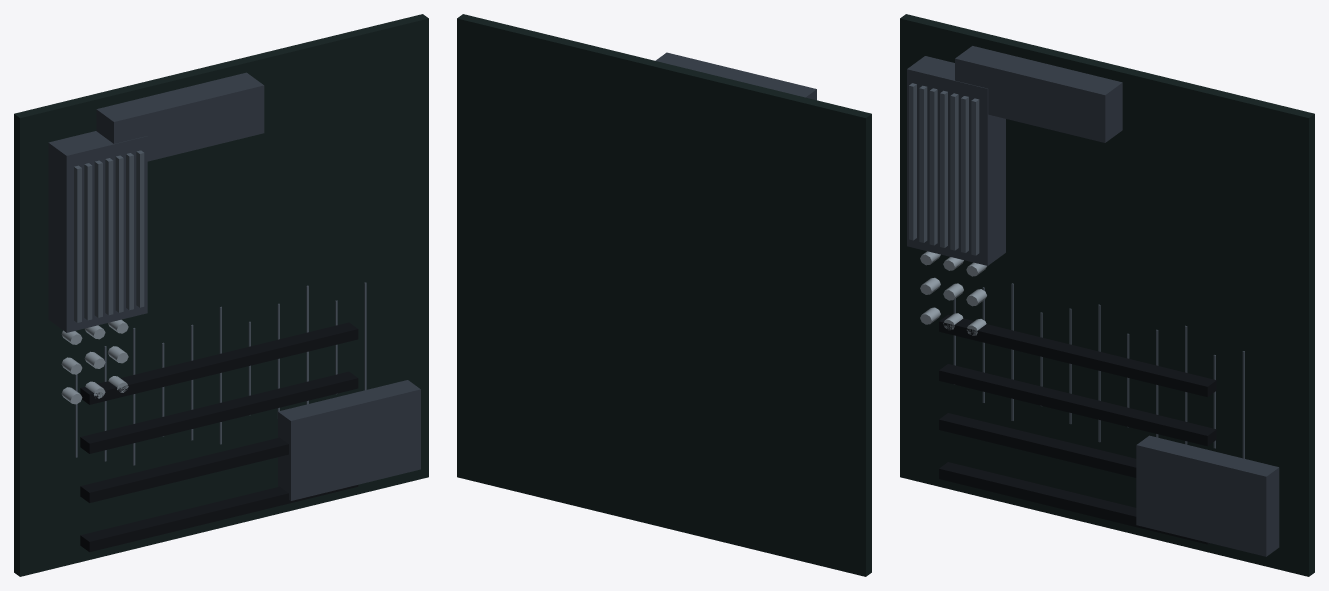
Rendered from pc-motherboard.glb.
3 views of the same model, side by side, from view 1: azimuth 30°, elevation 25°; view 2: azimuth 150°, elevation 25°; view 3: azimuth 330°, elevation 25° (orthographic).
Parts seen in each view (by area): view 1: motherboard (×15); view 2: motherboard (×2); view 3: motherboard (×15).
Part boxes in pixels (x1,y1,x2,y2): motherboard (×15): (14, 14, 428, 576); motherboard (×2): (457, 14, 871, 576); motherboard (×15): (900, 14, 1314, 576).
Size of the model in its own units: 3.31 by 3.55 by 0.4253.
